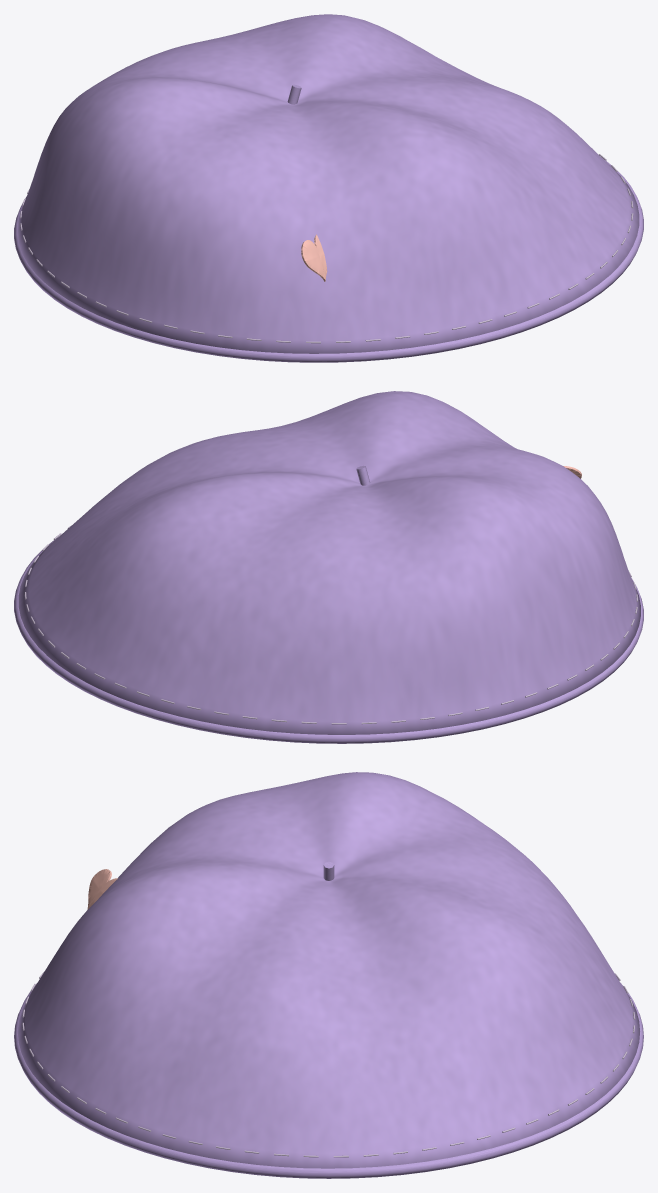
The model's file is restart_headfinish_beret_chic_penguin.glb.
3 views of the same model, one above another, from view 1: azimuth 30°, elevation 25°; view 2: azimuth 150°, elevation 25°; view 3: azimuth 270°, elevation 25° (orthographic). The views are drawn at different scales.
Parts seen in each view (by area): view 1: Boina pequeña · fieltro con forro; view 2: Boina pequeña · fieltro con forro; view 3: Boina pequeña · fieltro con forro.
Boxes of the visible parts, box(x1,y1,x2,y2) form: Boina pequeña · fieltro con forro: box(14, 14, 643, 362); Boina pequeña · fieltro con forro: box(14, 391, 643, 743); Boina pequeña · fieltro con forro: box(14, 772, 643, 1178).
Size of the model in its own units: 0.4821 by 0.1478 by 0.4618.
3 materials, 2 textured.
